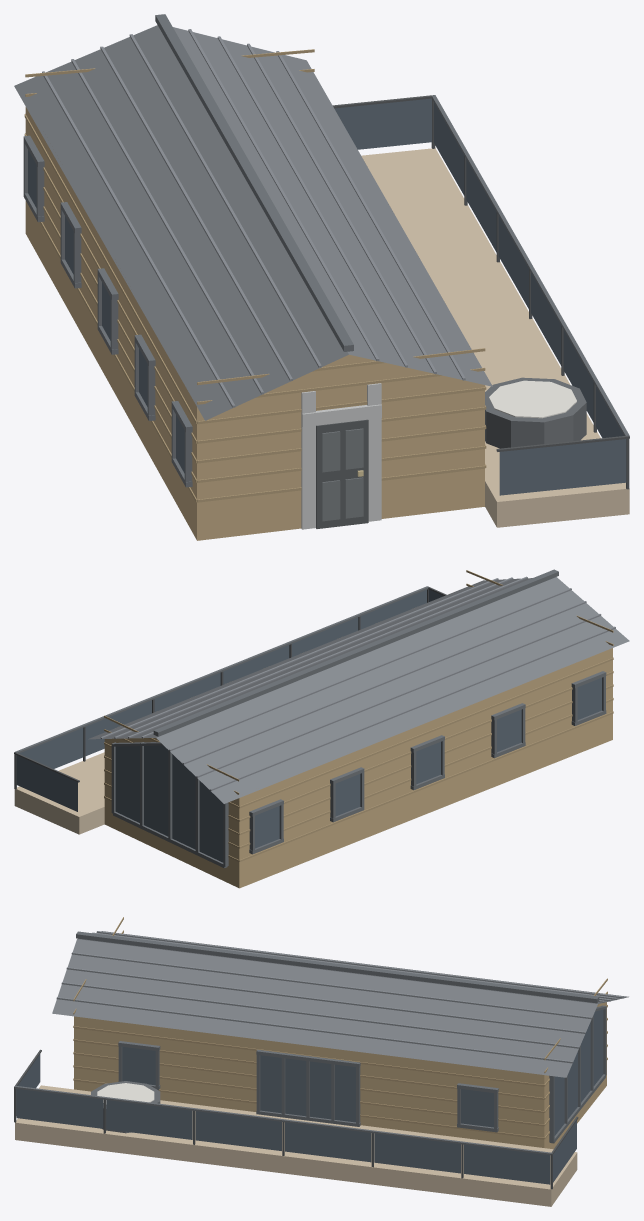
3 renders of one model, top to bottom at view 1: azimuth 30°, elevation 25°; view 2: azimuth 150°, elevation 25°; view 3: azimuth 270°, elevation 25°, orthographic. The views are drawn at different scales.
Parts seen in each view (by area): view 1: slate, door_wood, larch, slate_dk, slate_lt, door_wood_p, window_glass_007, stone_band, band_dark, window_glass_008, door_dark_p, door_dark (+8 smaller); view 2: slate, door_wood, slate_dk, slate_lt, window_glass_015, door_wood_p, larch, window_glass_008, window_glass_006, window_glass_005, window_glass_002, window_glass_004 (+8 smaller); view 3: slate, door_wood, larch, slate_dk, slate_lt, door_wood_p, window_glass_001, window_glass_005, window_glass_006, window_glass_004, window_glass_002, window_glass_003 (+12 smaller).
Boxes of the visible parts, x1,y1,x2,y2 form: slate: (14, 25, 492, 420); door_wood: (25, 107, 484, 540); larch: (361, 148, 629, 527); slate_dk: (23, 14, 629, 487); slate_lt: (42, 29, 465, 407); door_wood_p: (24, 49, 486, 502); window_glass_007: (499, 439, 626, 495); stone_band: (301, 383, 381, 529); band_dark: (485, 377, 586, 448); window_glass_008: (334, 98, 431, 149); door_dark_p: (322, 428, 363, 521); door_dark: (316, 419, 368, 528); slate: (88, 577, 629, 803); door_wood: (104, 648, 612, 888); slate_dk: (15, 569, 606, 868); slate_lt: (100, 576, 615, 790); window_glass_015: (115, 745, 223, 862); door_wood_p: (104, 570, 613, 861); larch: (14, 752, 104, 834); window_glass_008: (16, 755, 77, 811); window_glass_006: (19, 728, 83, 768); window_glass_005: (85, 700, 151, 755); window_glass_002: (292, 617, 358, 656); window_glass_004: (154, 672, 220, 711); slate: (52, 931, 628, 1077); door_wood: (74, 1002, 606, 1149); larch: (15, 1085, 577, 1206); slate_dk: (15, 931, 606, 1155); slate_lt: (56, 931, 623, 1063); door_wood_p: (73, 917, 607, 1139); window_glass_001: (16, 1089, 103, 1128); window_glass_005: (374, 1133, 460, 1173); window_glass_006: (464, 1144, 550, 1184); window_glass_004: (285, 1122, 371, 1162); window_glass_002: (106, 1100, 192, 1139); window_glass_003: (195, 1111, 281, 1150).
Bounding box in the file's own units: 11.45 × 3.74 × 16.06.
